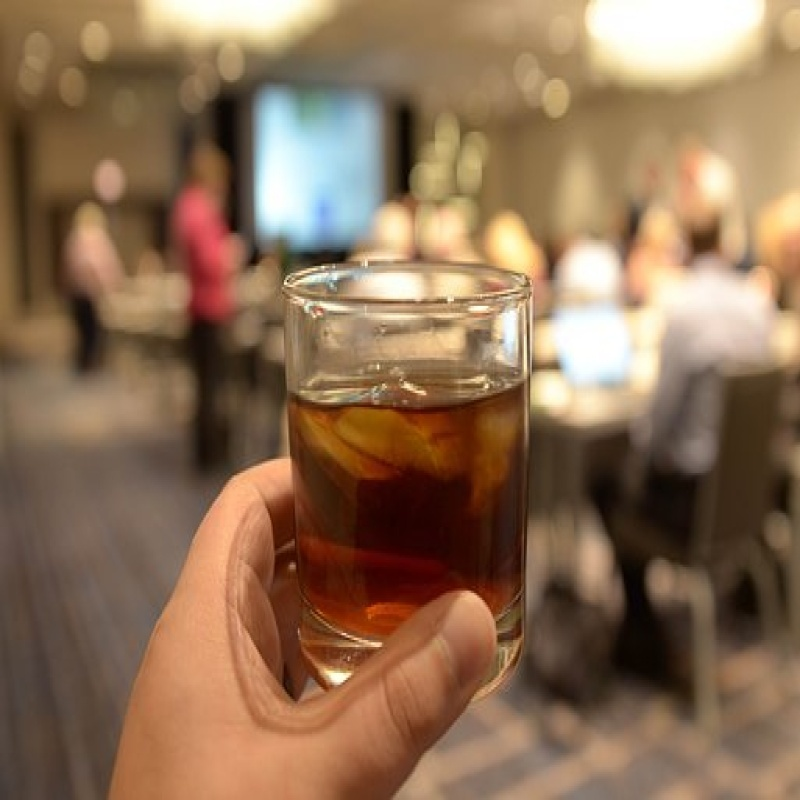whiskey: (287, 263, 534, 665)
